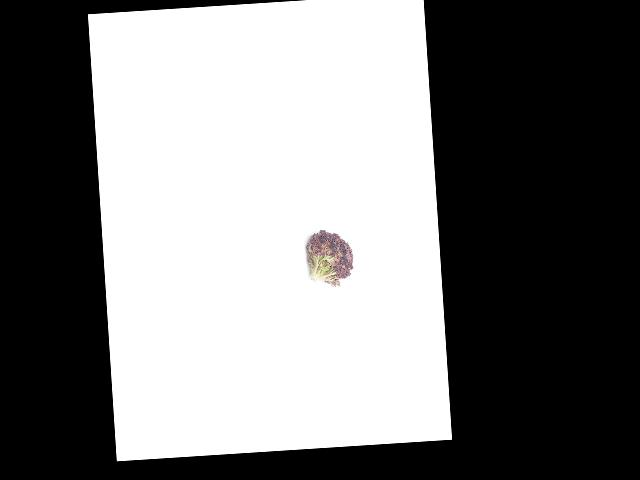lettuce: (301, 225, 356, 285)
